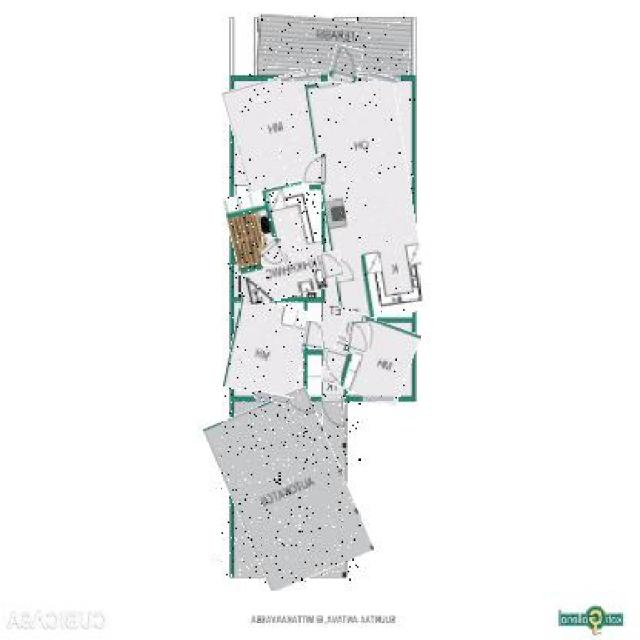door: (331, 46, 362, 86), (322, 349, 351, 386), (323, 396, 345, 430), (302, 153, 326, 184), (346, 322, 369, 352), (319, 252, 343, 278), (302, 322, 324, 349), (262, 239, 284, 266)
window: (254, 392, 294, 403), (368, 74, 398, 81), (280, 75, 320, 80), (363, 395, 394, 400)
zone: (218, 394, 360, 583), (314, 75, 420, 320), (228, 74, 328, 191), (228, 183, 326, 302), (257, 15, 409, 74), (228, 300, 308, 397), (330, 314, 416, 401)
